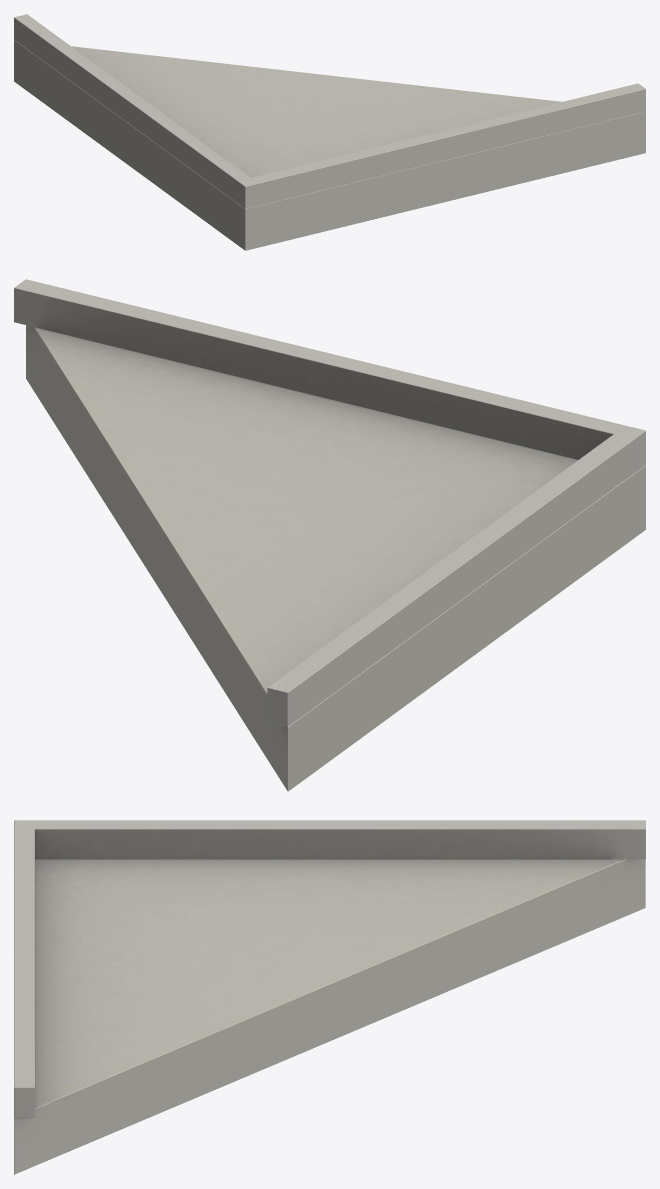
Rendered from BD_foundation_tri.glb.
3 views of the same model, one above another, from view 1: azimuth 30°, elevation 25°; view 2: azimuth 150°, elevation 25°; view 3: azimuth 270°, elevation 25° (orthographic). The views are drawn at different scales.
Visible parts, largest first — view 1: BD_foundation_tri; view 2: BD_foundation_tri; view 3: BD_foundation_tri.
Boxes of the visible parts, box(x1,y1,x2,y2) form: BD_foundation_tri: box(14, 14, 645, 250); BD_foundation_tri: box(14, 279, 645, 791); BD_foundation_tri: box(14, 820, 645, 1174).
Size of the model in its own units: 3 by 0.46 by 3.
Materials: 1 (1 with a texture image).
